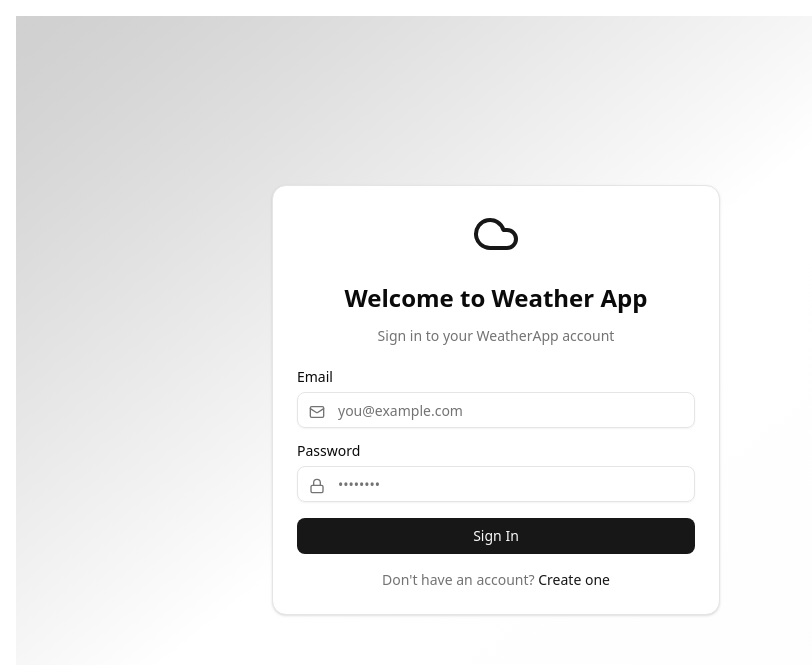
it: Login Component › L-F2: displays specific error message from the API
Type "locked@test.com" into the field labelled "Email".
click(496, 410); type("locked@test.com")  # box left=297, top=392, right=695, bottom=428
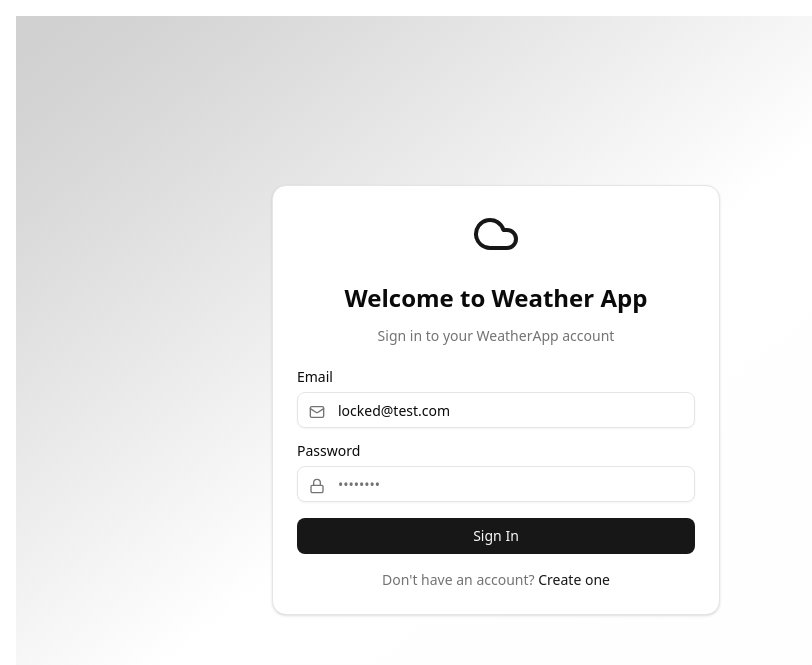
Type "pass" into the password field labelled "Password".
click(496, 484); type("pass")  # box left=297, top=466, right=695, bottom=502
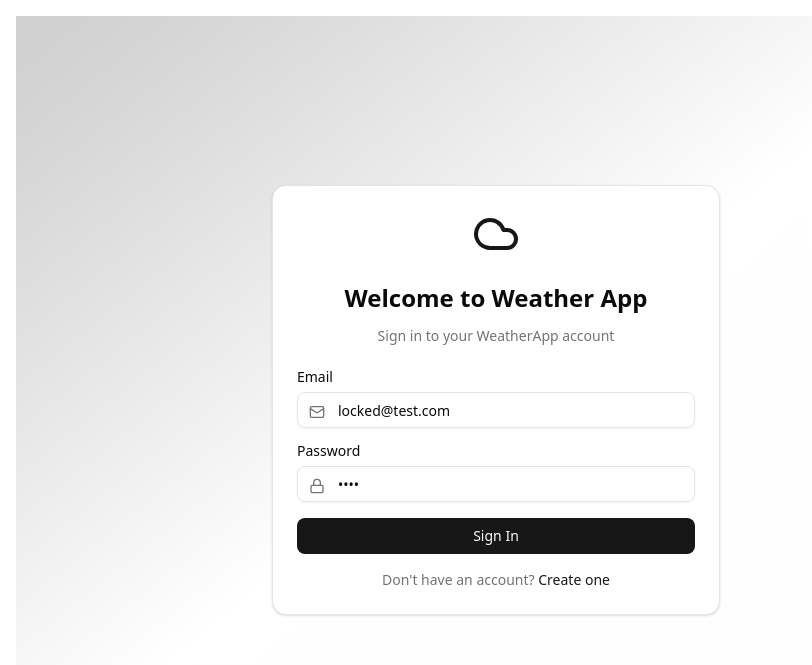
Click the button "Sign In".
click(496, 536)  # box left=297, top=518, right=695, bottom=554
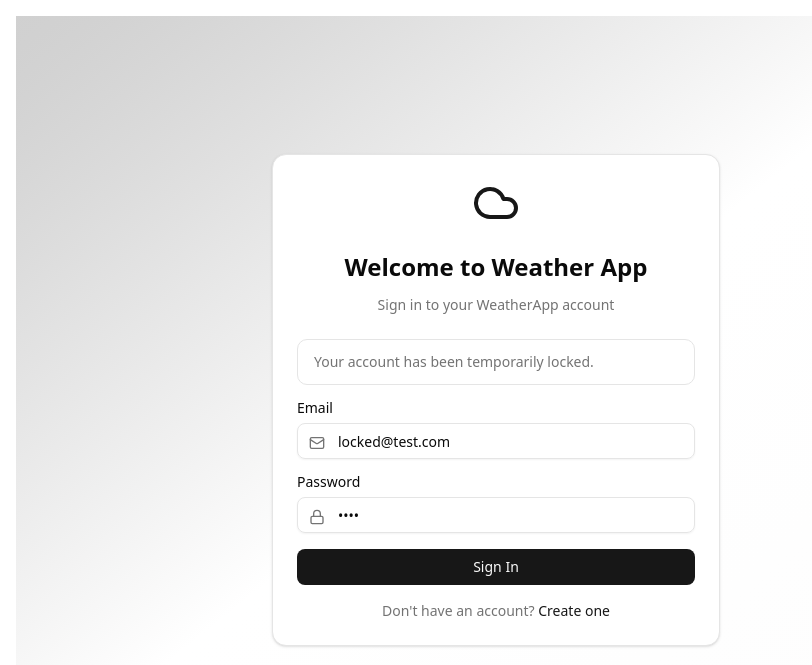
Check: the text "Your account has been temporarily locked." is shown, box left=314, top=352, right=594, bottom=371
